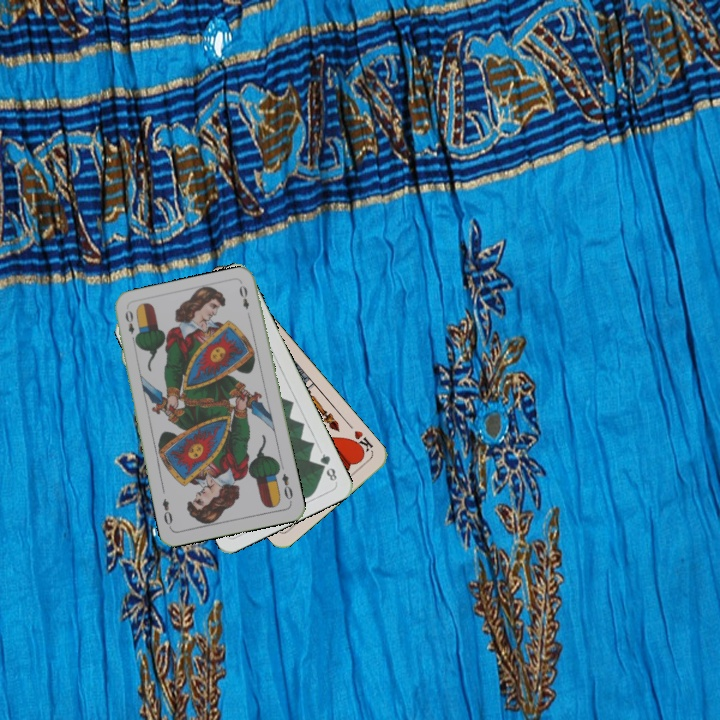EO: (121, 306, 140, 346), (278, 469, 295, 505)
G8: (316, 449, 340, 484)
HK: (347, 426, 375, 457)
